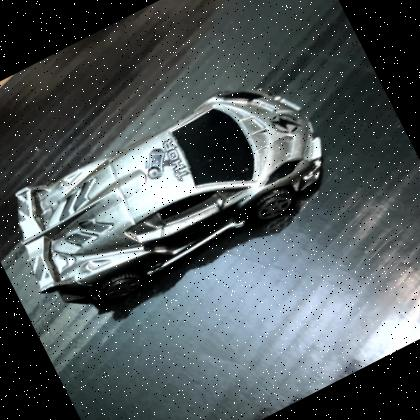Car: (17, 90, 324, 314)
